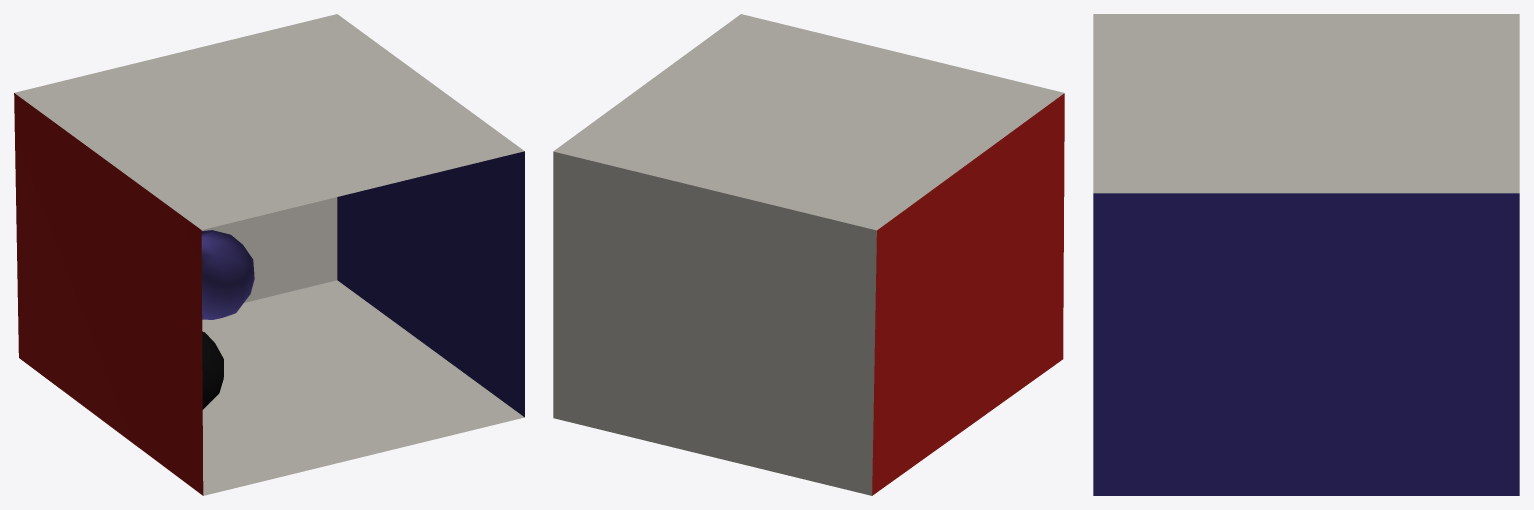
Rendered from CornellBox-Sphere-953.obj.
The picture shows the model from 3 angles, left to right: view 1: azimuth 30°, elevation 25°; view 2: azimuth 150°, elevation 25°; view 3: azimuth 270°, elevation 25°; orthographic projection. The views are drawn at different scales.
Parts seen in each view (by area): view 1: ceiling, leftWall, floor, rightWall, backWall, leftSphere, rightSphere; view 2: backWall, ceiling, leftWall; view 3: rightWall, ceiling.
Part boxes in pixels (<box>): ceiling: <box>14,14,524,229</box>; leftWall: <box>14,93,203,495</box>; floor: <box>202,280,524,495</box>; rightWall: <box>337,151,524,417</box>; backWall: <box>201,197,337,302</box>; leftSphere: <box>201,230,254,319</box>; rightSphere: <box>202,331,223,409</box>; backWall: <box>553,151,876,495</box>; ceiling: <box>553,14,1064,230</box>; leftWall: <box>872,93,1064,495</box>; rightWall: <box>1093,193,1519,495</box>; ceiling: <box>1093,14,1519,193</box>.
Size of the model in its own units: 2.02 by 1.59 by 2.03.
